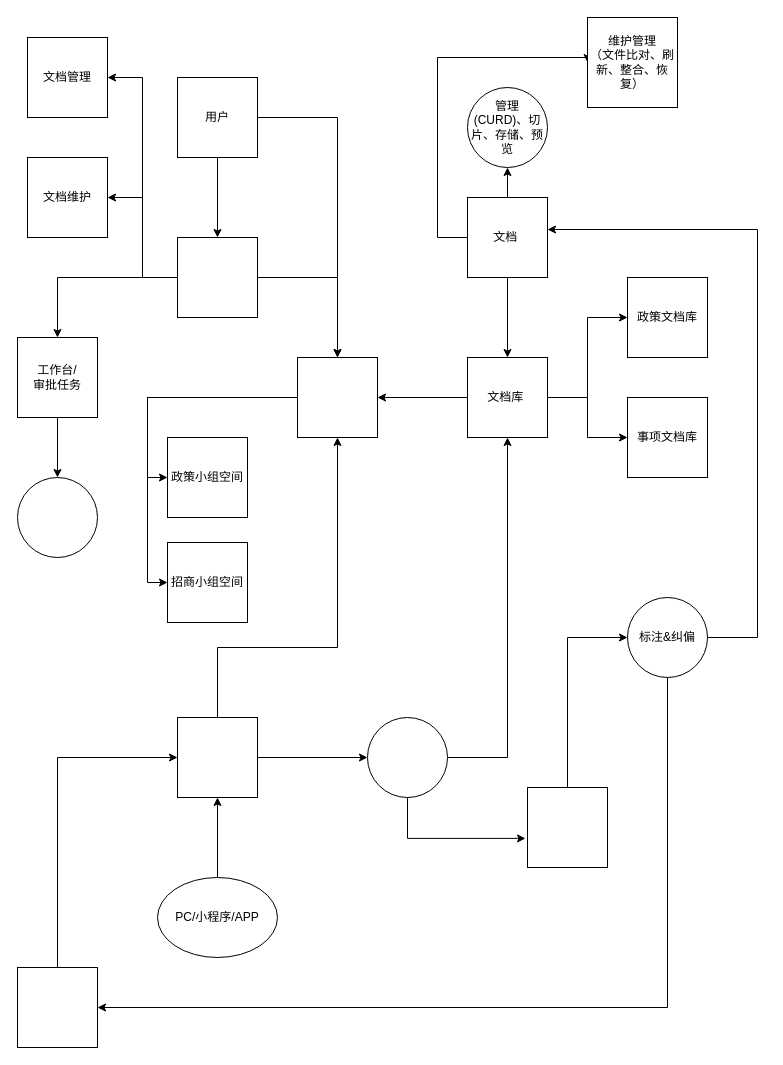
This 783x1065 diagram has some shape labels left out. Here are the shapes that lost their labels. From the top down, the box of each, then its label:
(176, 236, 258, 318): 角色
(296, 356, 378, 438): 空间/频道
(16, 476, 98, 558): 审批/提交申请/操作日志
(176, 716, 258, 798): 机器人管理 （机器人&密钥管理）
(366, 716, 448, 798): 问答
(526, 786, 608, 868): 问答历史
(16, 966, 98, 1048): 意图管理
